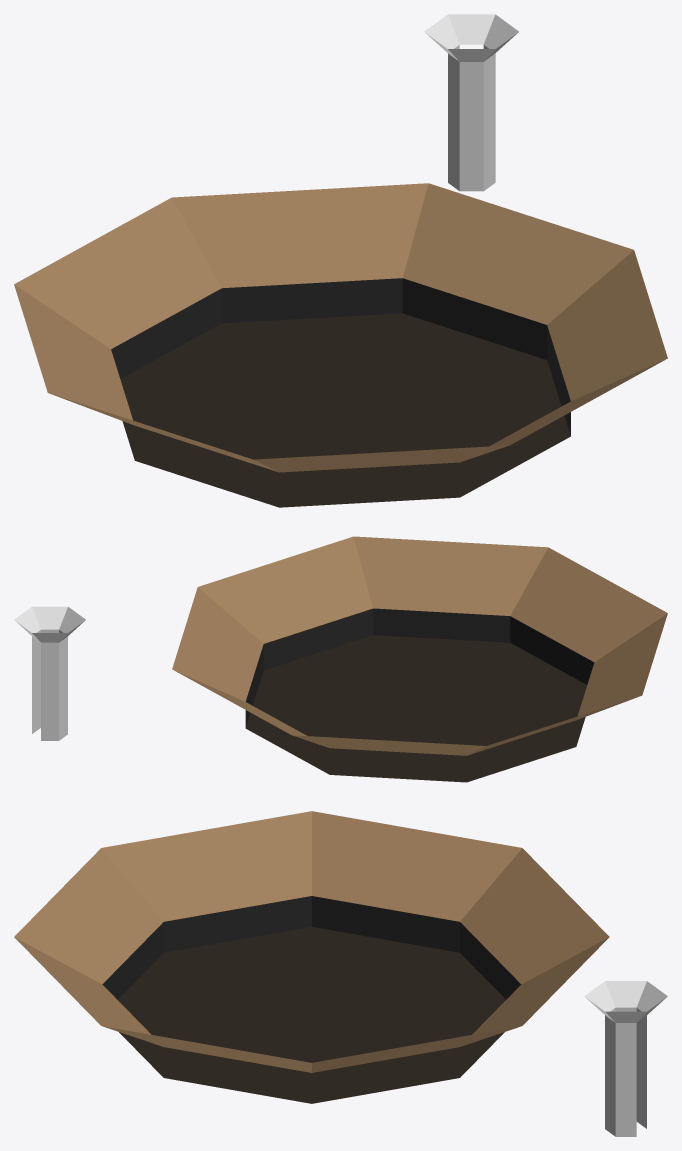
File: pillar.dae
3 renders of one model, top to bottom at view 1: azimuth 30°, elevation 25°; view 2: azimuth 150°, elevation 25°; view 3: azimuth 270°, elevation 25°, orthographic. The views are drawn at different scales.
Parts seen in each view (by area): view 1: stage-col-noimp, pillar; view 2: stage-col-noimp, pillar; view 3: stage-col-noimp, pillar.
Part boxes in pixels (x1,y1,x2,y2): stage-col-noimp: [14, 183, 667, 507]; pillar: [424, 14, 518, 191]; stage-col-noimp: [172, 536, 667, 782]; pillar: [14, 606, 85, 740]; stage-col-noimp: [14, 811, 609, 1103]; pillar: [584, 981, 667, 1136].
Bounding box in the file's own units: 30.95 × 31.22 × 8.
